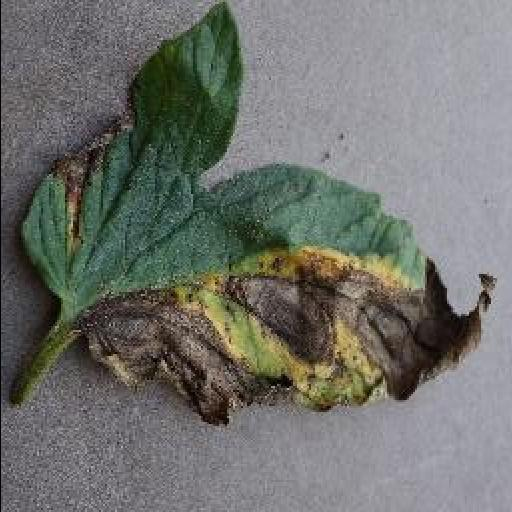disease_tomato: (20, 6, 498, 428)
